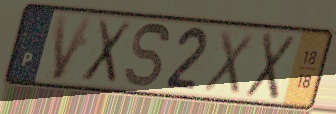2: (163, 24, 210, 96)
S: (123, 20, 172, 90)
V: (50, 13, 96, 84)
X: (242, 29, 299, 103), (78, 17, 135, 87), (200, 28, 256, 97)
